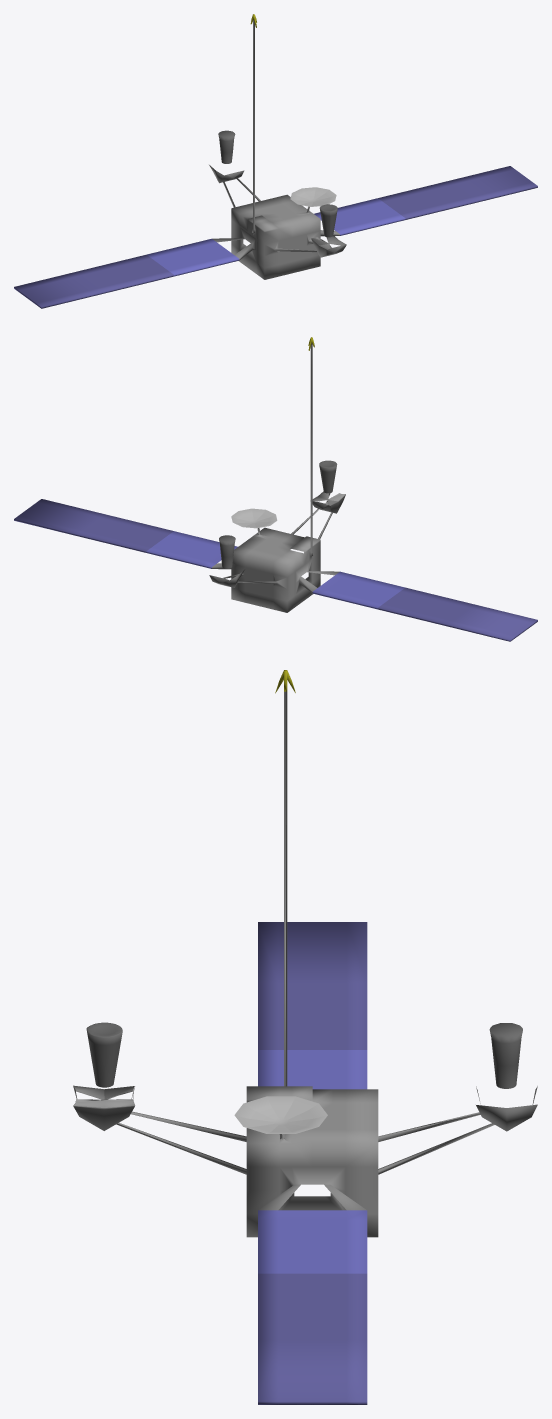
File: dishless_sat.glb
3 views of the same model, one above another, from view 1: azimuth 30°, elevation 25°; view 2: azimuth 150°, elevation 25°; view 3: azimuth 270°, elevation 25° (orthographic). The views are drawn at different scales.
Visible parts, largest first — view 1: polySurface5, transform8; view 2: polySurface5, transform8; view 3: polySurface5, transform8.
Part boxes in pixels (<box>): polySurface5: <box>14,14,537,308</box>; transform8: <box>290,187,336,211</box>; polySurface5: <box>14,337,537,641</box>; transform8: <box>231,508,277,533</box>; polySurface5: <box>73,670,537,1404</box>; transform8: <box>234,1096,327,1138</box>.
Size of what is drawn, in the model's own units: 0.8866 by 0.4489 by 0.4094.
